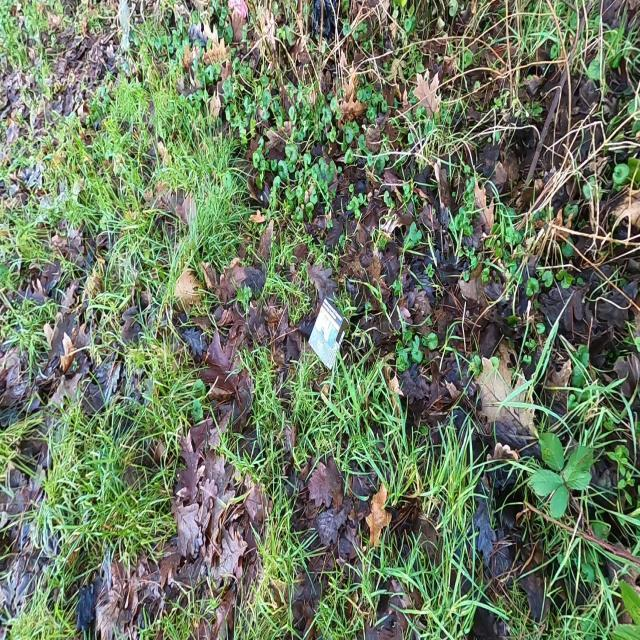Paper: (306, 295, 348, 371)
